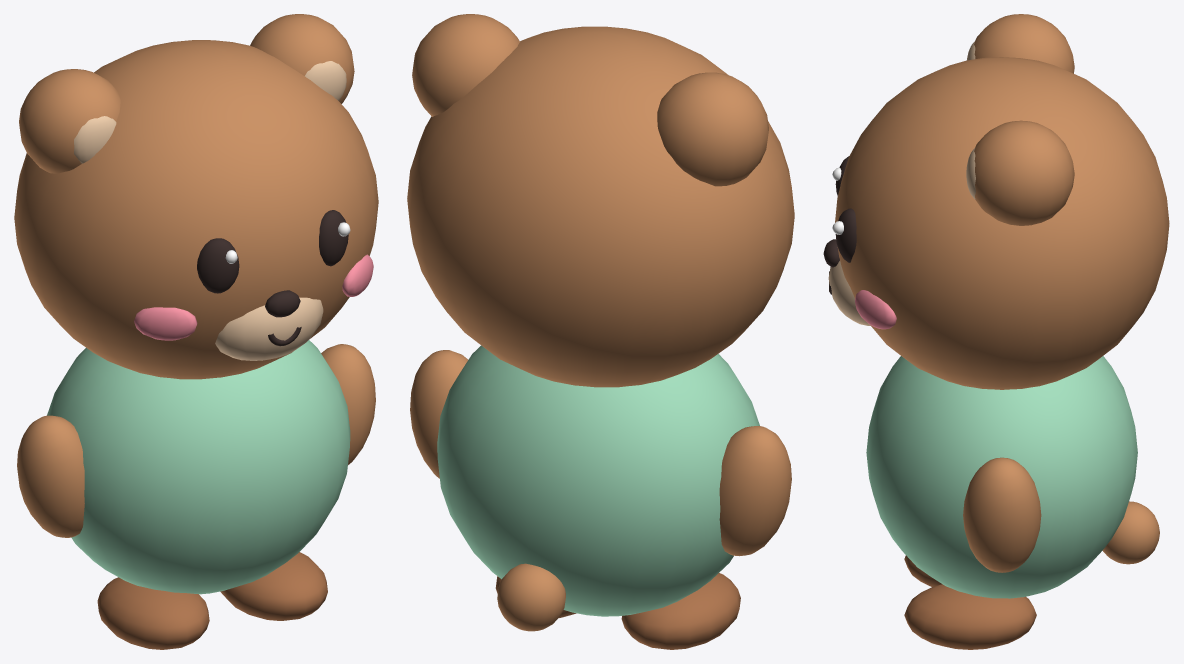
Rendered from cust_bear.glb.
3 renders of one model, left to right at view 1: azimuth 30°, elevation 25°; view 2: azimuth 150°, elevation 25°; view 3: azimuth 270°, elevation 25°, orthographic. The views are drawn at different scales.
Visible parts, largest first — view 1: Head, Body, ArmL, FootL, FootR, ArmR; view 2: Head, Body, ArmL, FootL, ArmR; view 3: Head, Body, ArmR, FootR.
Part boxes in pixels (<box>): Head: <box>14,14,378,379</box>; Body: <box>47,340,350,594</box>; ArmL: <box>17,415,84,537</box>; FootL: <box>97,577,209,649</box>; FootR: <box>220,552,327,620</box>; ArmR: <box>321,344,375,464</box>; Head: <box>407,14,794,387</box>; Body: <box>437,345,759,631</box>; ArmL: <box>719,426,791,556</box>; FootL: <box>621,573,740,649</box>; ArmR: <box>410,350,467,478</box>; Head: <box>823,14,1169,389</box>; Body: <box>866,356,1159,598</box>; ArmR: <box>963,457,1041,572</box>; FootR: <box>904,584,1036,649</box>.
Bounding box in the file's own units: 0.6185 × 0.948 × 0.548.
